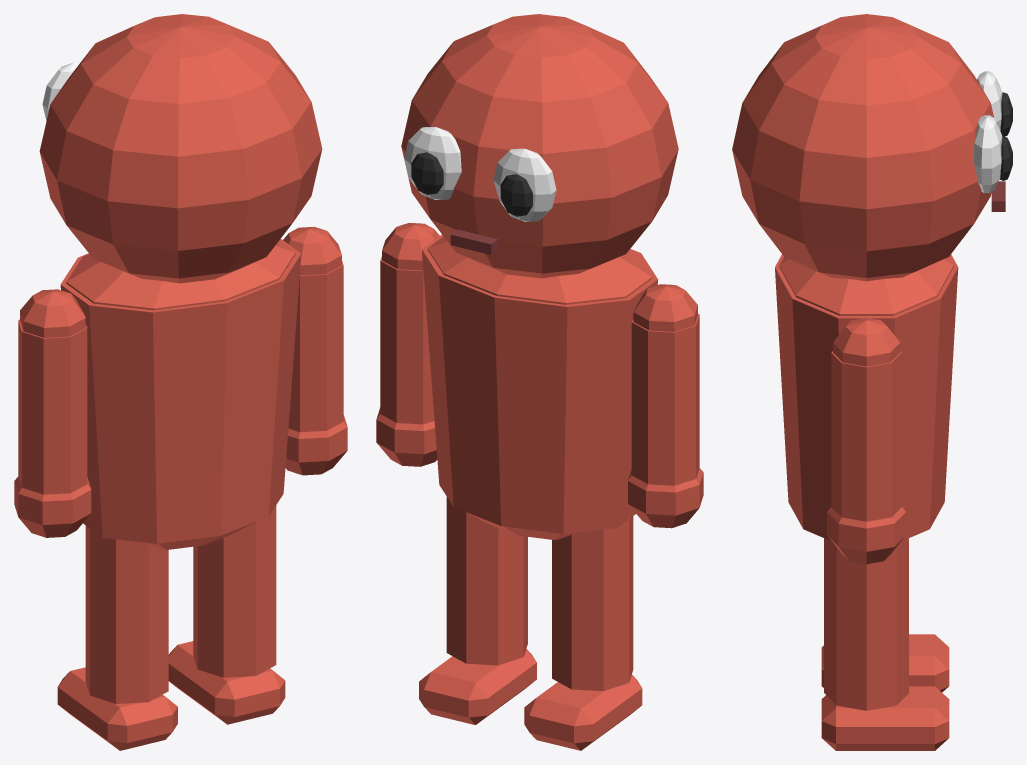
The model's file is character_base.glb.
3 views of the same model, side by side, from view 1: azimuth 30°, elevation 25°; view 2: azimuth 150°, elevation 25°; view 3: azimuth 270°, elevation 25° (orthographic).
Parts seen in each view (by area): view 1: Head, Torso, LegL, LegR, ArmL, ArmR; view 2: Head, Torso, LegL, LegR, ArmL, ArmR; view 3: Head, Torso, LegR, ArmR, LegL.
Part boxes in pixels (x1,y1,x2,y2): Head: (39,14,322,283); Torso: (60,239,301,549); LegL: (57,522,177,750); LegR: (168,505,285,724); ArmL: (14,289,91,537); ArmR: (283,226,347,475); Head: (401,14,678,278); Torso: (422,234,658,539); LegL: (524,512,642,750); LegR: (419,497,536,724); ArmL: (628,284,703,528); ArmR: (376,223,439,466); Head: (732,14,1012,281); Torso: (775,254,958,541); LegR: (821,538,949,750); ArmR: (827,317,905,564); LegL: (821,634,949,692).
Bounding box in the file's own units: 0.7874 × 1.61 × 0.595.
